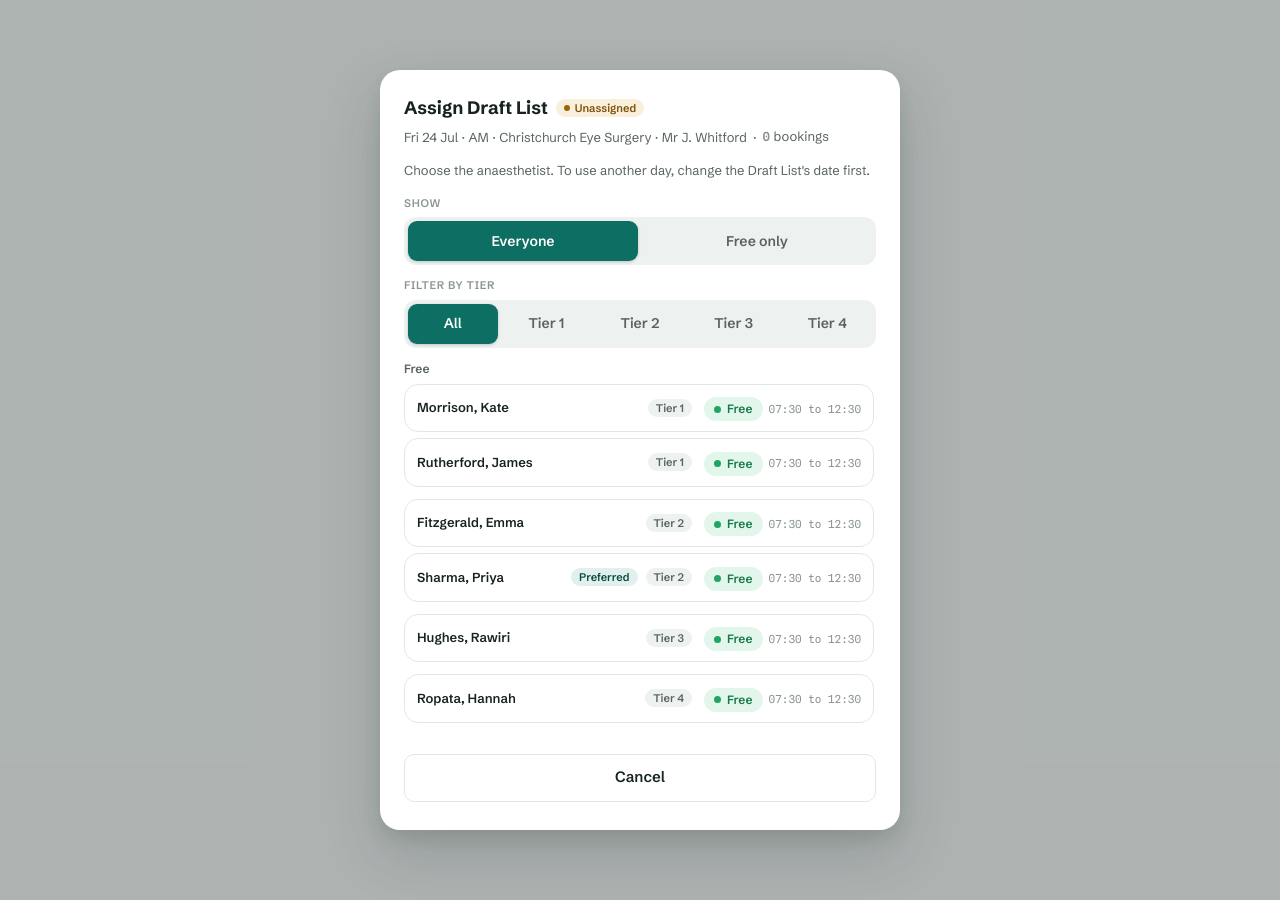
AssignDraftListSheet › a Preferred pill shows and never warns (Dr Sharma with Mr Whitford)
The width and height of the screenshot is (1280, 900).
Click the button "Sharma, Priya Preferred Tier 2 Free 07:30 to 12:30".
click(639, 577)  # box [404,553,874,602]
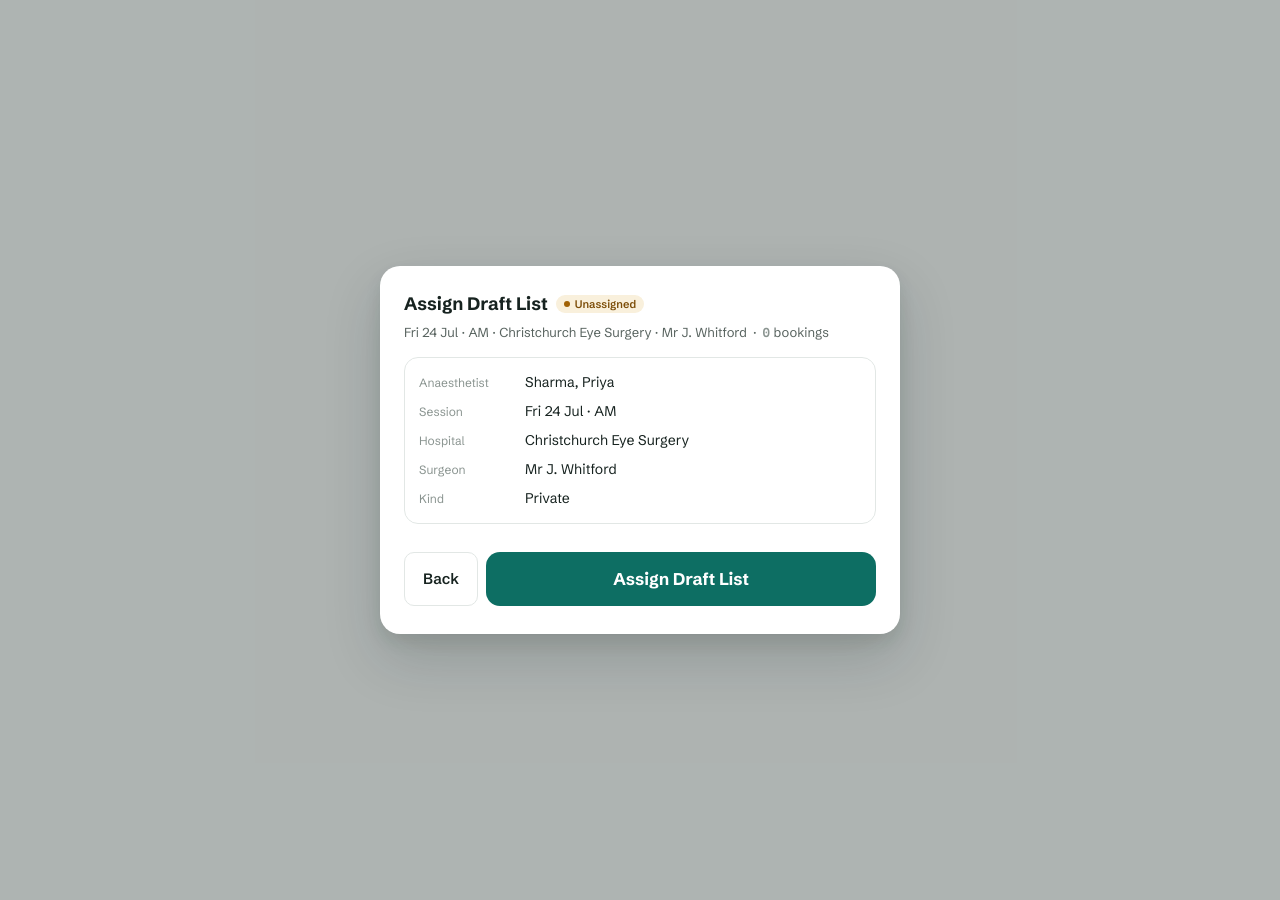
Expected: the button "Assign Draft List" is shown, [486,552,876,606]
